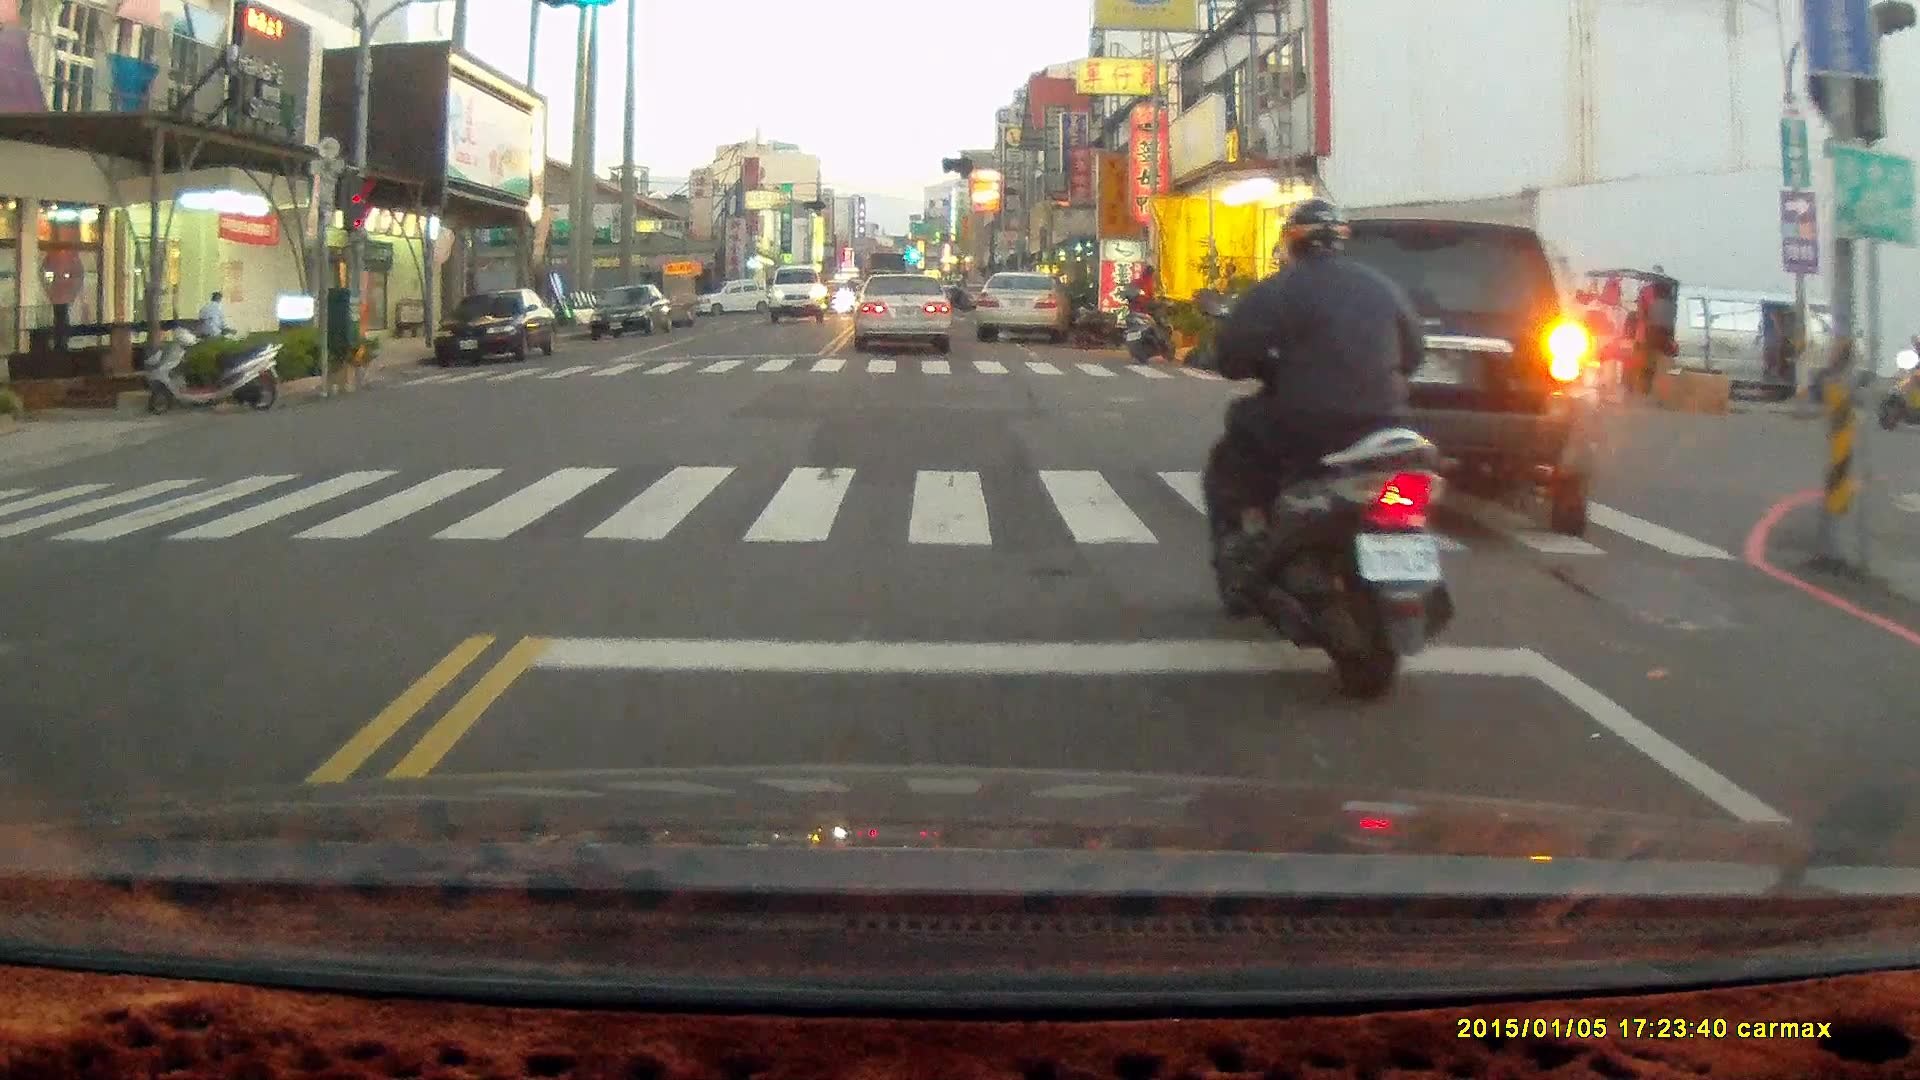pedestrian: (1125, 262, 1157, 352), (196, 290, 233, 355), (1778, 310, 1803, 401)
rider: (1195, 204, 1454, 718), (1871, 330, 1920, 428)
vehicle: (1279, 224, 1613, 539), (1614, 289, 1876, 416), (433, 288, 558, 370), (851, 278, 955, 357), (976, 270, 1070, 347), (589, 284, 674, 341), (769, 268, 827, 328)
